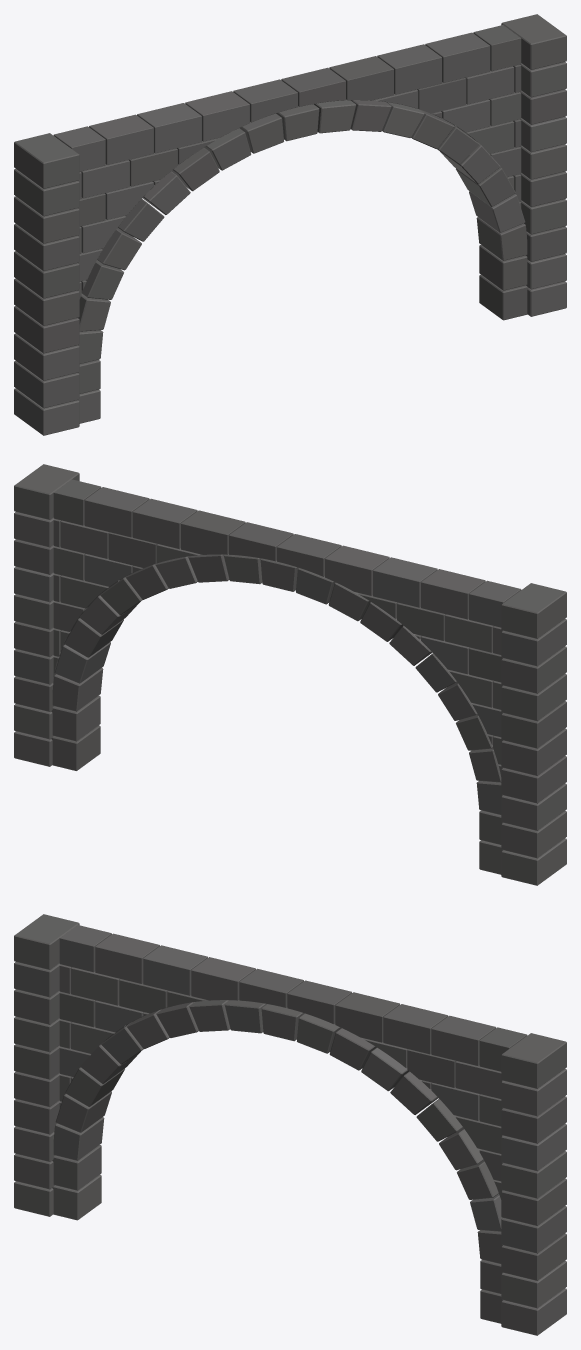
The model's file is CrownEntrance_Stone.fbx.
3 renders of one model, top to bottom at view 1: azimuth 30°, elevation 25°; view 2: azimuth 150°, elevation 25°; view 3: azimuth 330°, elevation 25°, orthographic.
Visible parts, largest first — view 1: CrownEntrance_Stone; view 2: CrownEntrance_Stone; view 3: CrownEntrance_Stone.
Part boxes in pixels (box(x1,y1,x2,y2)): CrownEntrance_Stone: box(14, 14, 566, 435); CrownEntrance_Stone: box(14, 464, 566, 885); CrownEntrance_Stone: box(14, 914, 566, 1335).
Bounding box in the file's own units: 600 × 299 × 59.
